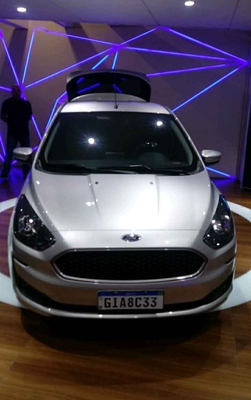Frontal Veiculo: (7, 105, 237, 321)
